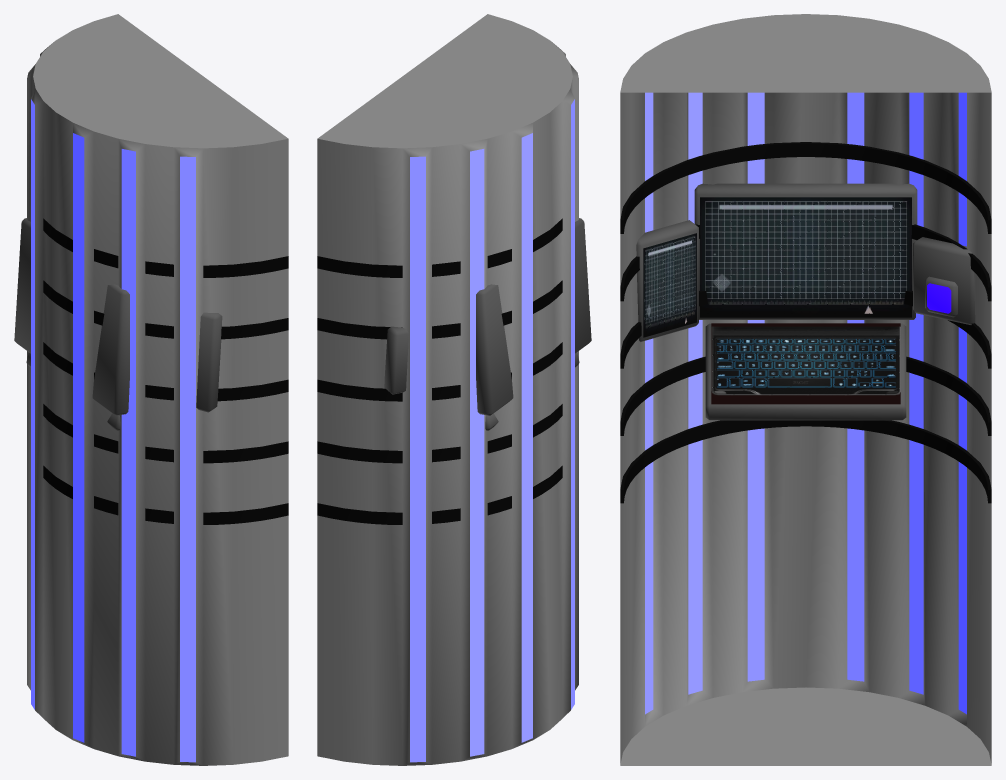
Rendered from menu.fbx.
3 renders of one model, left to right at view 1: azimuth 30°, elevation 25°; view 2: azimuth 150°, elevation 25°; view 3: azimuth 270°, elevation 25°, orthographic. The views are drawn at different scales.
Visible parts, largest first — view 1: Cylinder, Cube_1, Tube_1, Tube_4, Tube_0, Cube_2, Tube_3, Tube_2; view 2: Cylinder, Cube_1, Tube_1, Tube_4, Tube_0, Tube_2, Tube_3, Cube_3; view 3: Cylinder, Plane_2, Plane_3, Tube_4, Tube_0, Plane, Cube_2_2, Cube_1, Cube_3, Tube_1, Cube_2, Tube_3 (+2 smaller).
Part boxes in pixels (left/top/right/bottom): Cylinder: left=27, top=14, right=288, bottom=765; Cube_1: left=14, top=218, right=129, bottom=415; Tube_1: left=43, top=404, right=288, bottom=463; Tube_4: left=43, top=218, right=288, bottom=277; Tube_0: left=43, top=465, right=288, bottom=524; Cube_2: left=196, top=312, right=222, bottom=412; Tube_3: left=43, top=280, right=288, bottom=339; Tube_2: left=43, top=342, right=288, bottom=401; Cylinder: left=317, top=14, right=578, bottom=765; Cube_1: left=476, top=218, right=591, bottom=415; Tube_1: left=317, top=404, right=562, bottom=463; Tube_4: left=317, top=218, right=562, bottom=277; Tube_0: left=317, top=465, right=562, bottom=524; Tube_2: left=317, top=342, right=562, bottom=401; Tube_3: left=317, top=280, right=562, bottom=339; Cube_3: left=384, top=326, right=408, bottom=394; Cylinder: left=620, top=14, right=991, bottom=765; Plane_2: left=700, top=197, right=911, bottom=317; Plane_3: left=711, top=323, right=900, bottom=404; Tube_4: left=620, top=142, right=991, bottom=233; Tube_0: left=620, top=420, right=991, bottom=503; Plane: left=643, top=233, right=696, bottom=337; Cube_2_2: left=705, top=323, right=906, bottom=420; Cube_1: left=694, top=183, right=917, bottom=319; Cube_3: left=913, top=237, right=975, bottom=324; Tube_1: left=620, top=356, right=991, bottom=435; Cube_2: left=636, top=220, right=698, bottom=341; Tube_3: left=620, top=224, right=991, bottom=301.
Size of the model in its own units: 50.65 by 200 by 100.
Materials: 7 (2 with a texture image).
